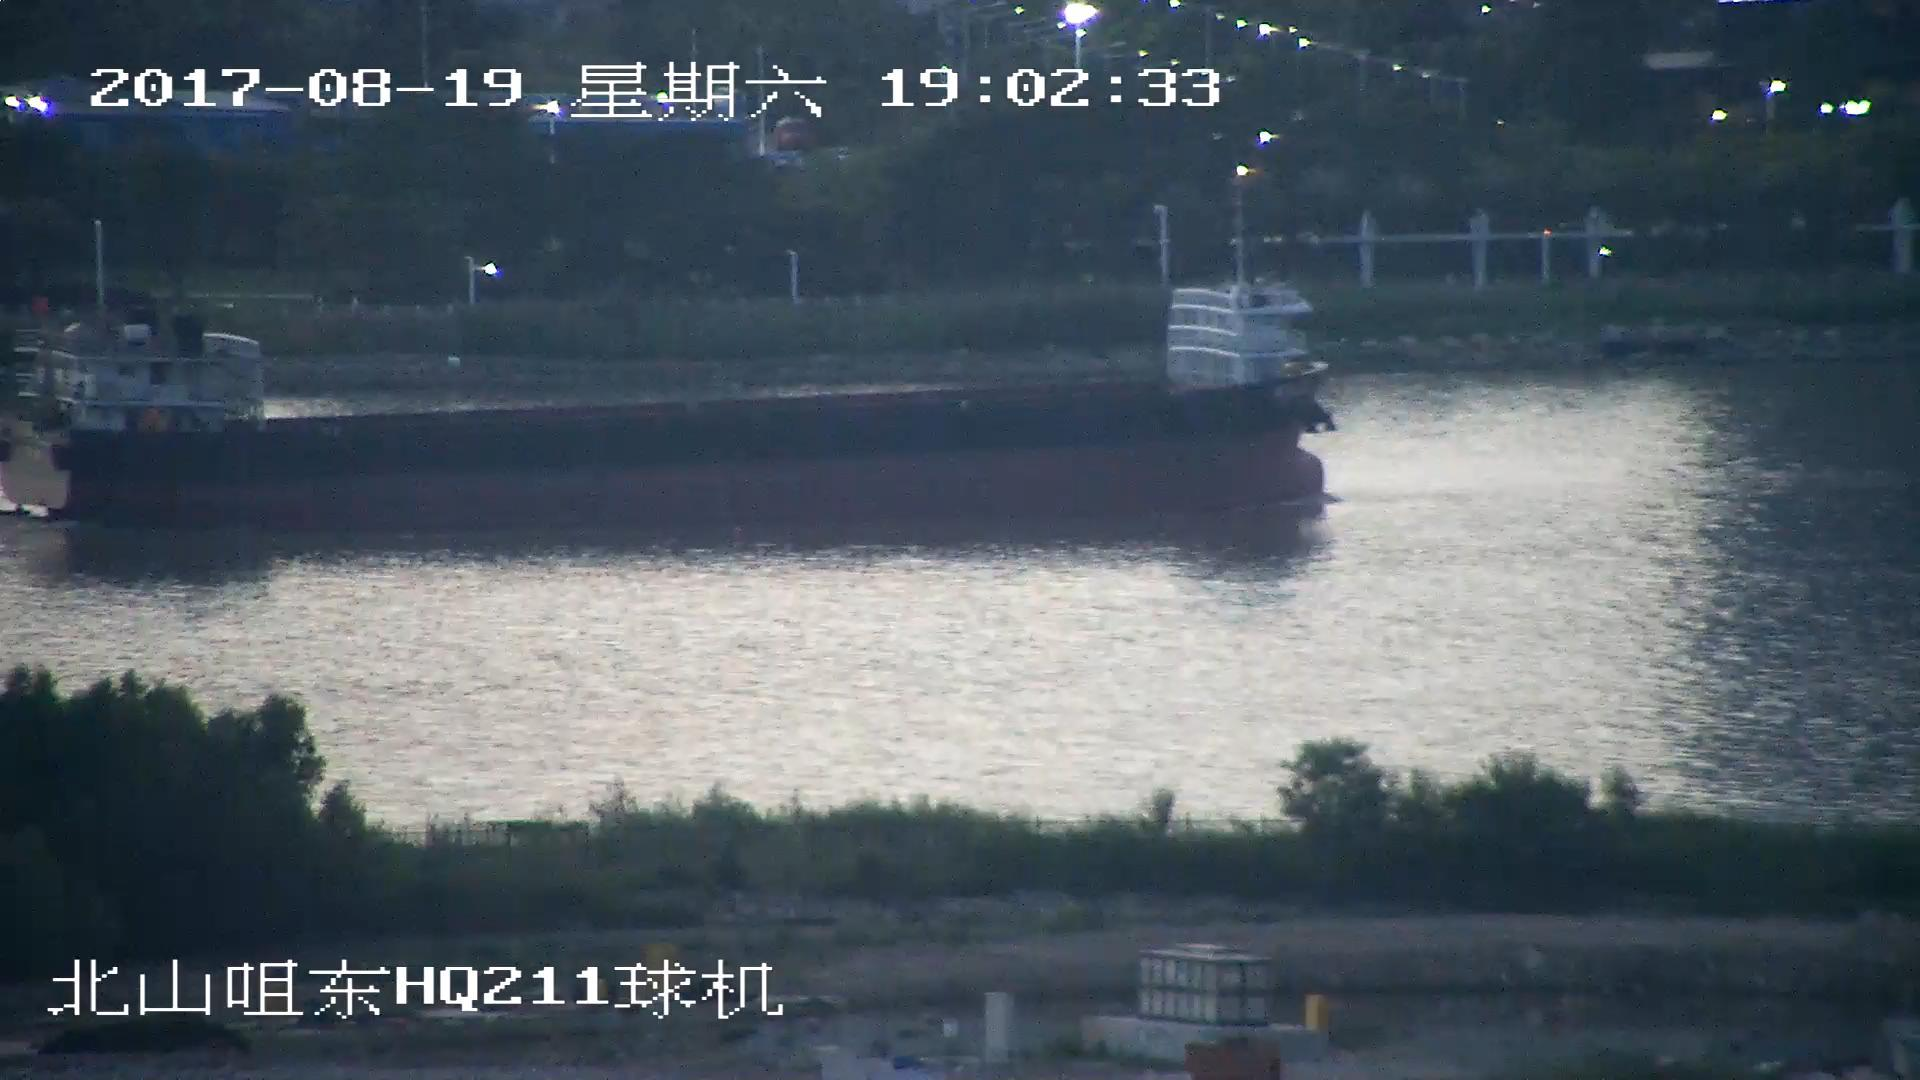Ship: (3, 266, 1337, 525)
